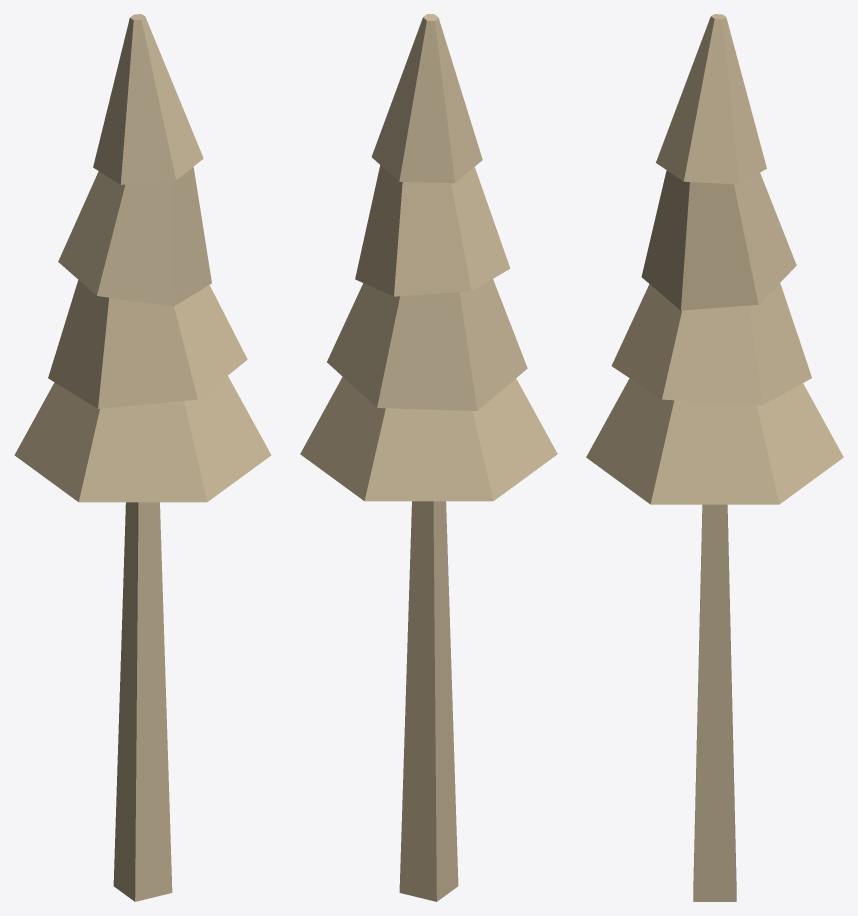
The model's file is naturePack_159.fbx.
The picture shows the model from 3 angles, left to right: view 1: azimuth 30°, elevation 25°; view 2: azimuth 150°, elevation 25°; view 3: azimuth 270°, elevation 25°; orthographic projection.
Parts seen in each view (by area): view 1: naturePack_159; view 2: naturePack_159; view 3: naturePack_159.
Part boxes in pixels (<box>): naturePack_159: <box>14,14,271,901</box>; naturePack_159: <box>300,14,557,901</box>; naturePack_159: <box>586,14,843,901</box>.
Size of the model in its own units: 192 by 831 by 222.
